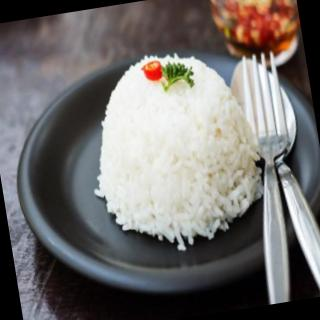Nasi: (73, 38, 273, 264)
